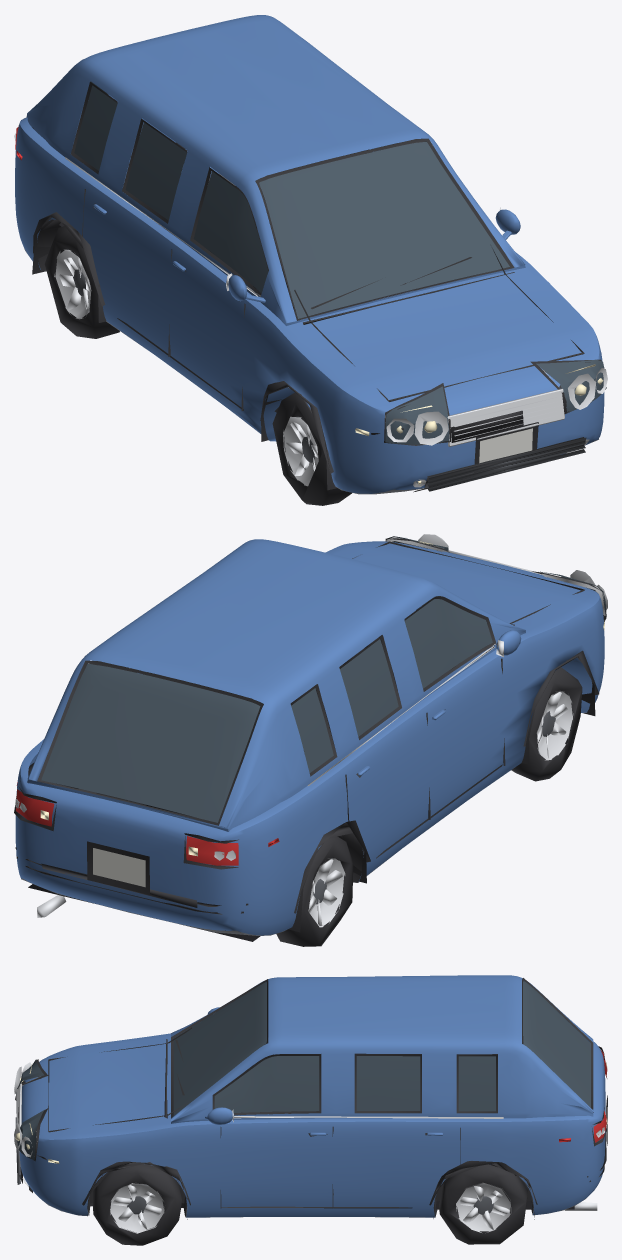
Rendered from CarV3_SUV_L1.fbx.
The picture shows the model from 3 angles, top to bottom: view 1: azimuth 30°, elevation 25°; view 2: azimuth 150°, elevation 25°; view 3: azimuth 270°, elevation 25°; orthographic projection. The views are drawn at different scales.
Parts seen in each view (by area): view 1: CarV3_SUV.001; view 2: CarV3_SUV.001; view 3: CarV3_SUV.001.
Boxes of the visible parts, x1,y1,x2,y2 form: CarV3_SUV.001: (14, 15, 607, 505); CarV3_SUV.001: (14, 534, 607, 946); CarV3_SUV.001: (14, 975, 607, 1245).
Size of the model in its own units: 1.99 by 1.74 by 4.77.
